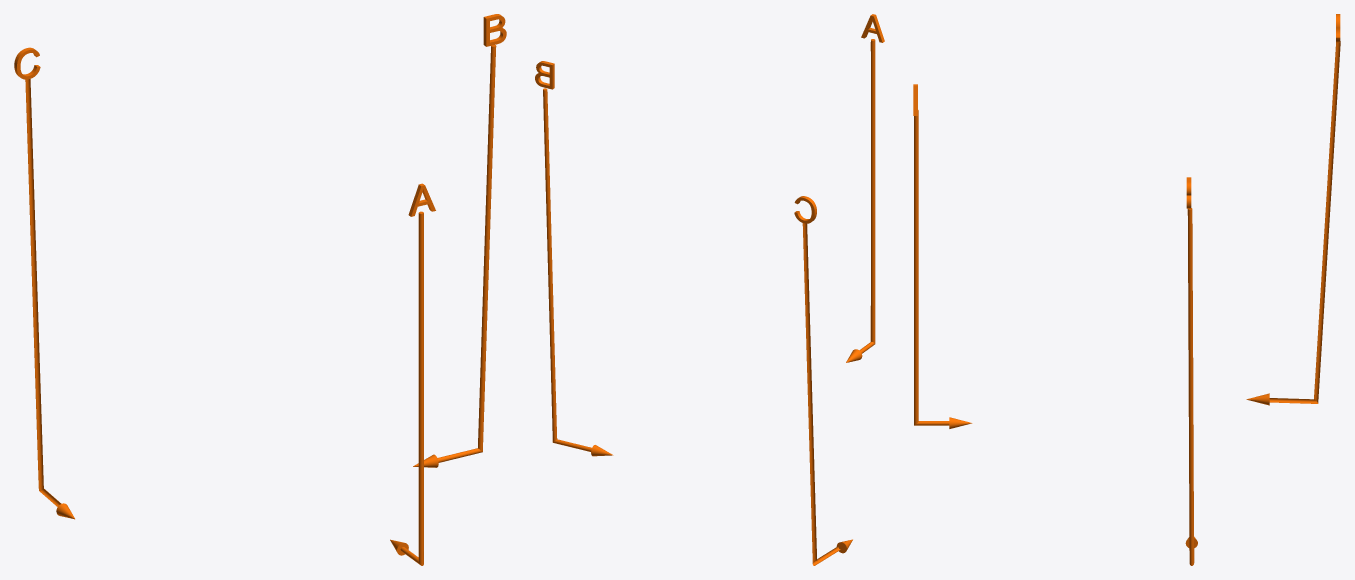
The model's file is s1arrow.glb.
The picture shows the model from 3 angles, left to right: view 1: azimuth 30°, elevation 25°; view 2: azimuth 150°, elevation 25°; view 3: azimuth 270°, elevation 25°; orthographic projection. The views are drawn at different scales.
Visible parts, largest first — view 1: Node; view 2: Node; view 3: Node.
Part boxes in pixels (x1,y1,x2,y2): Node: (14, 14, 506, 565); Node: (535, 14, 884, 565); Node: (913, 14, 1340, 565).
Bounding box in the file's own units: 22.67 × 23.39 × 23.09.
